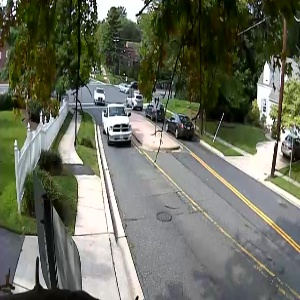car: (164, 110, 199, 142), (275, 130, 300, 167)
truck: (94, 99, 135, 152)
